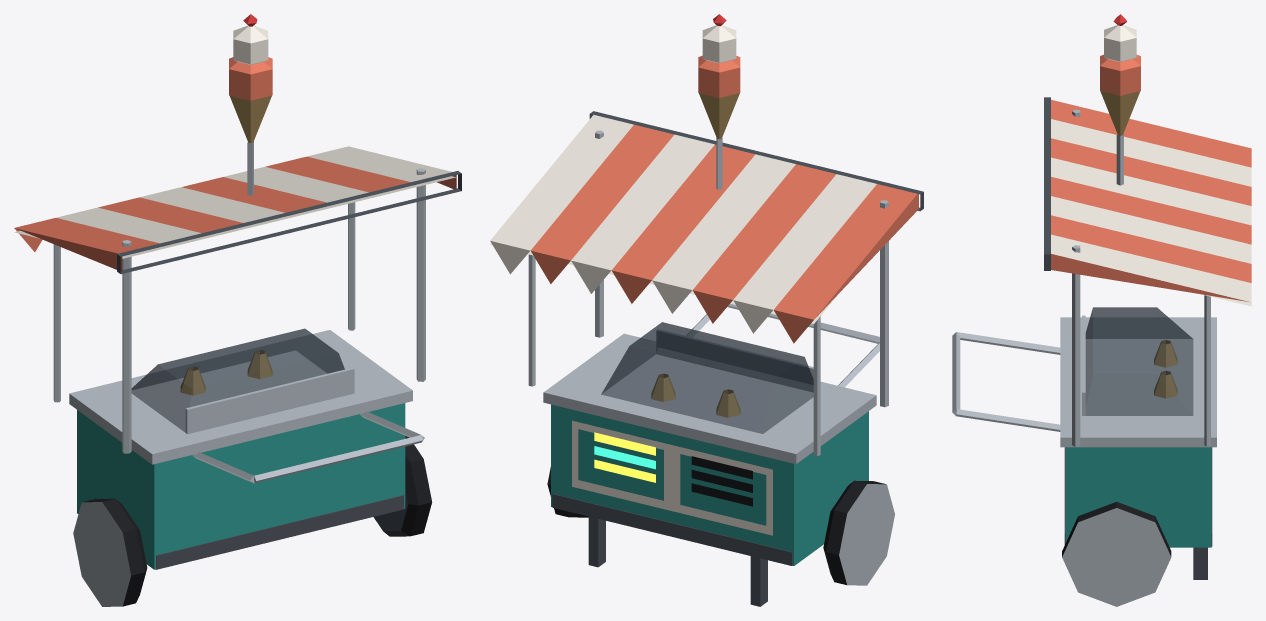
Rendered from ice_cream_cart.glb.
3 views of the same model, side by side, from view 1: azimuth 30°, elevation 25°; view 2: azimuth 150°, elevation 25°; view 3: azimuth 270°, elevation 25° (orthographic). The views are drawn at different scales.
Visible parts, largest first — view 1: Body; view 2: Body; view 3: Body.
Boxes of the visible parts, left/top/right/bottom form: Body: left=14, top=14, right=461, bottom=606; Body: left=490, top=14, right=923, bottom=606; Body: left=952, top=14, right=1251, bottom=606.
Size of the model in its own units: 2.04 by 3.18 by 1.64.
